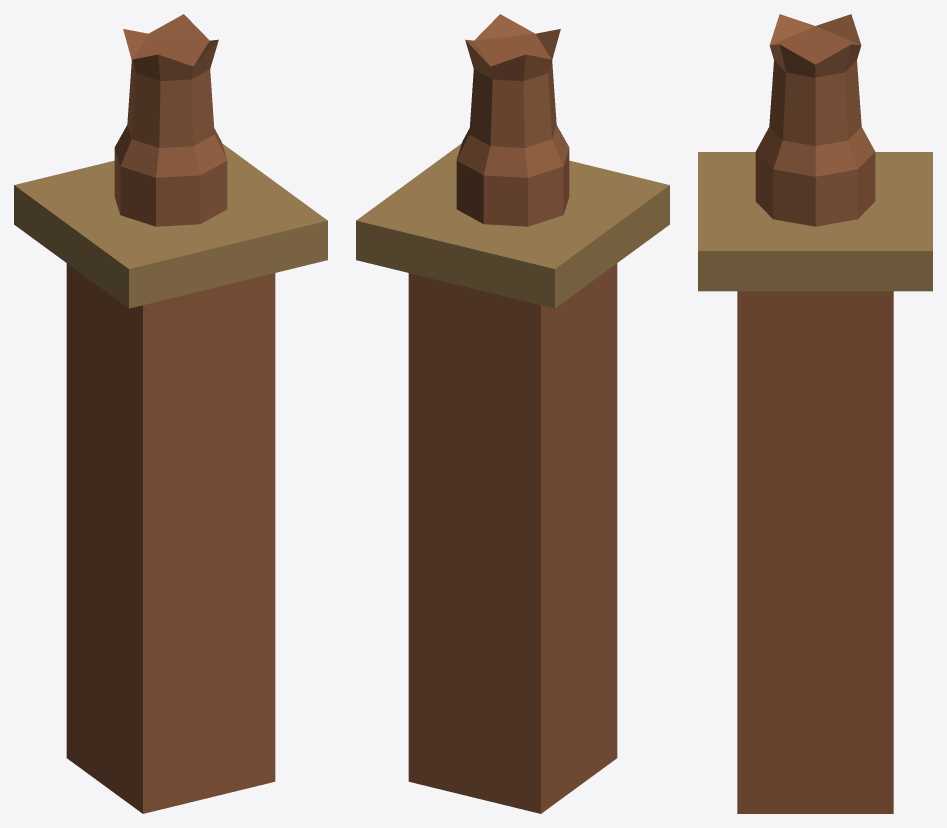
File: SingleChimneyTop.fbx
3 renders of one model, left to right at view 1: azimuth 30°, elevation 25°; view 2: azimuth 150°, elevation 25°; view 3: azimuth 270°, elevation 25°, orthographic. The views are drawn at different scales.
Visible parts, largest first — view 1: SingleChimneyTop; view 2: SingleChimneyTop; view 3: SingleChimneyTop.
Part boxes in pixels (x1=…): SingleChimneyTop: x1=14, y1=14, x2=327, y2=813; SingleChimneyTop: x1=356, y1=14, x2=669, y2=813; SingleChimneyTop: x1=698, y1=14, x2=932, y2=813.
Bounding box in the file's own units: 59.2 × 209 × 59.2.
